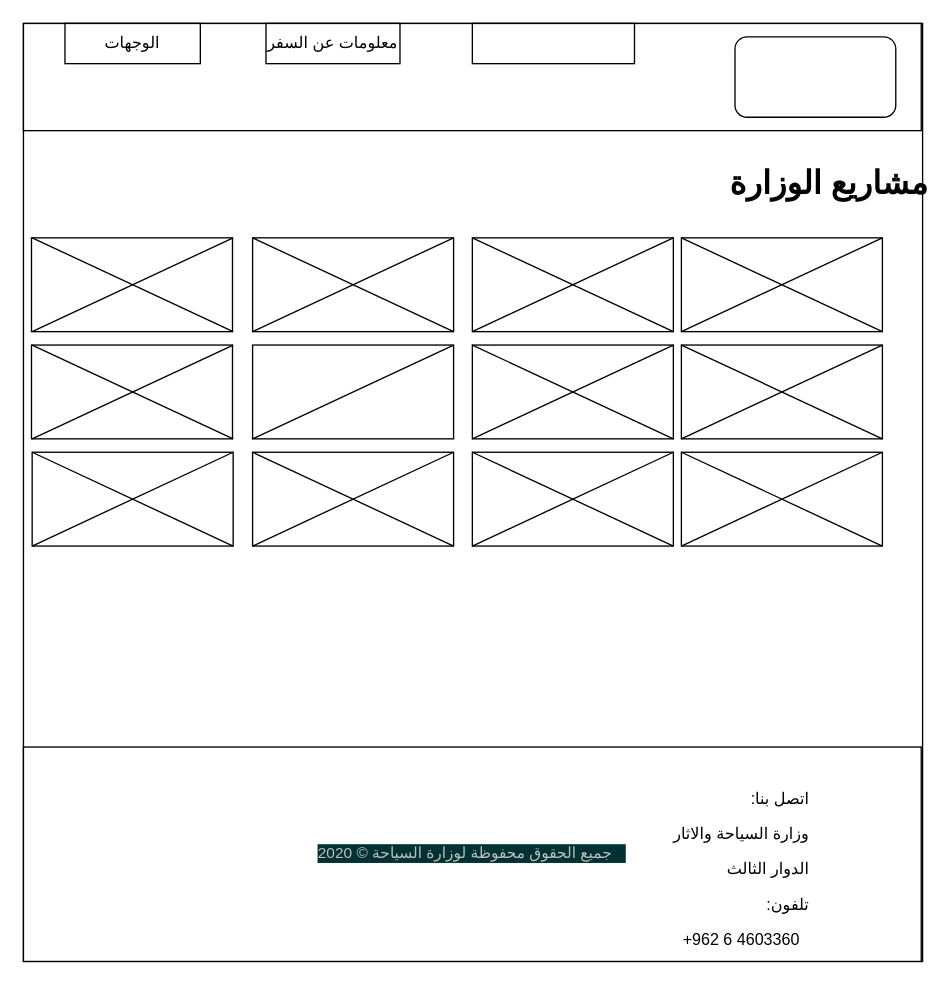
Image size: 951x985. Some labels were removed from this diagram. The centre of each missing label's shape, as x and y in pixels:
"Logo وزارة السياحة والاثار" belongs at point (815, 76).
"الضفحة الرئيسية" belongs at point (552, 43).
